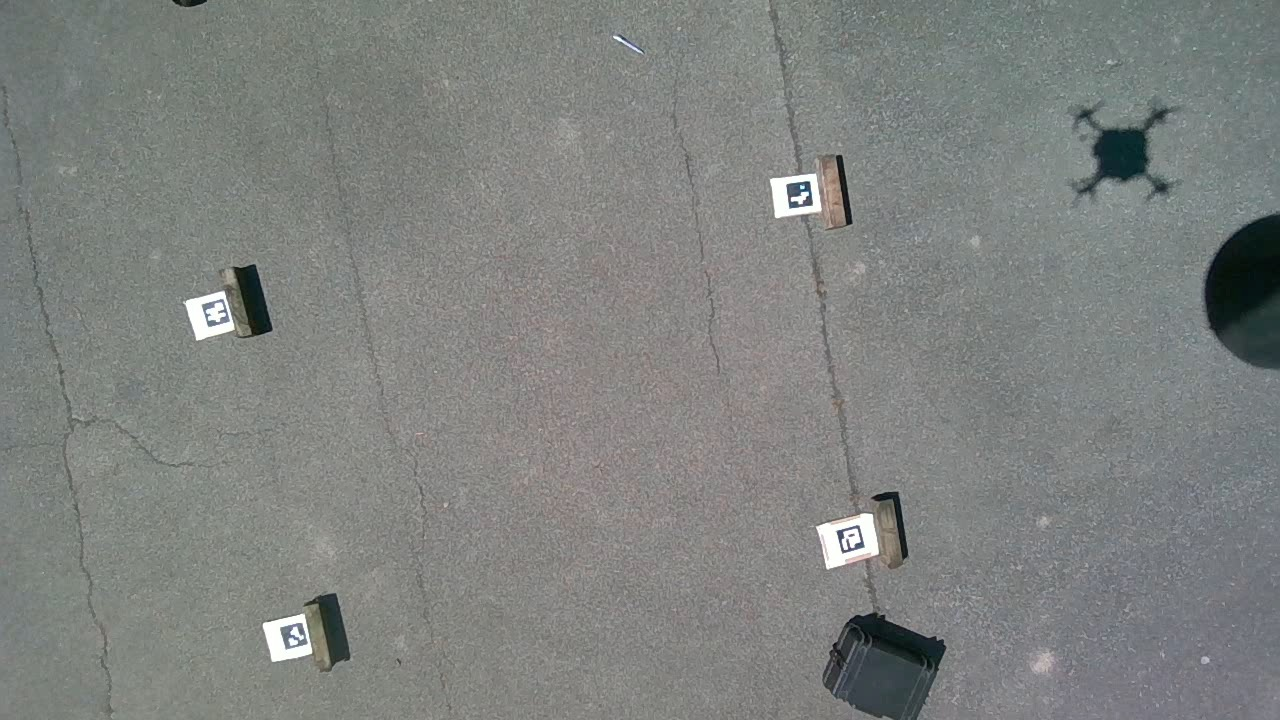probes: (613, 35, 644, 53)
